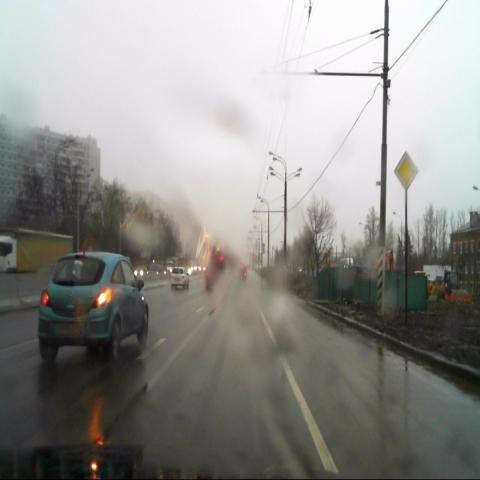2_1: (394, 151, 419, 190)
